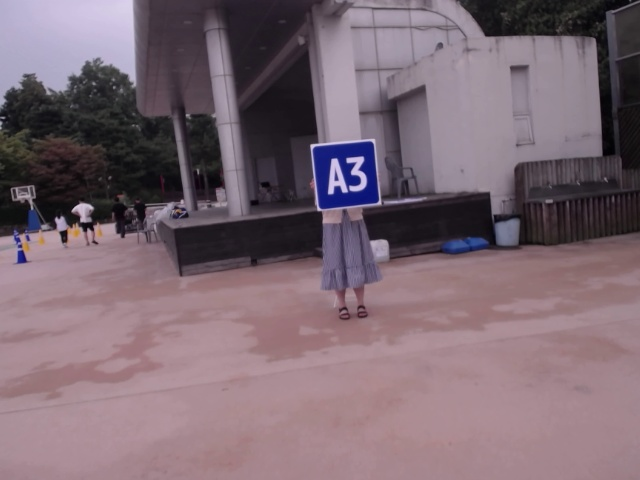delivery_a3: (312, 140, 381, 210)
